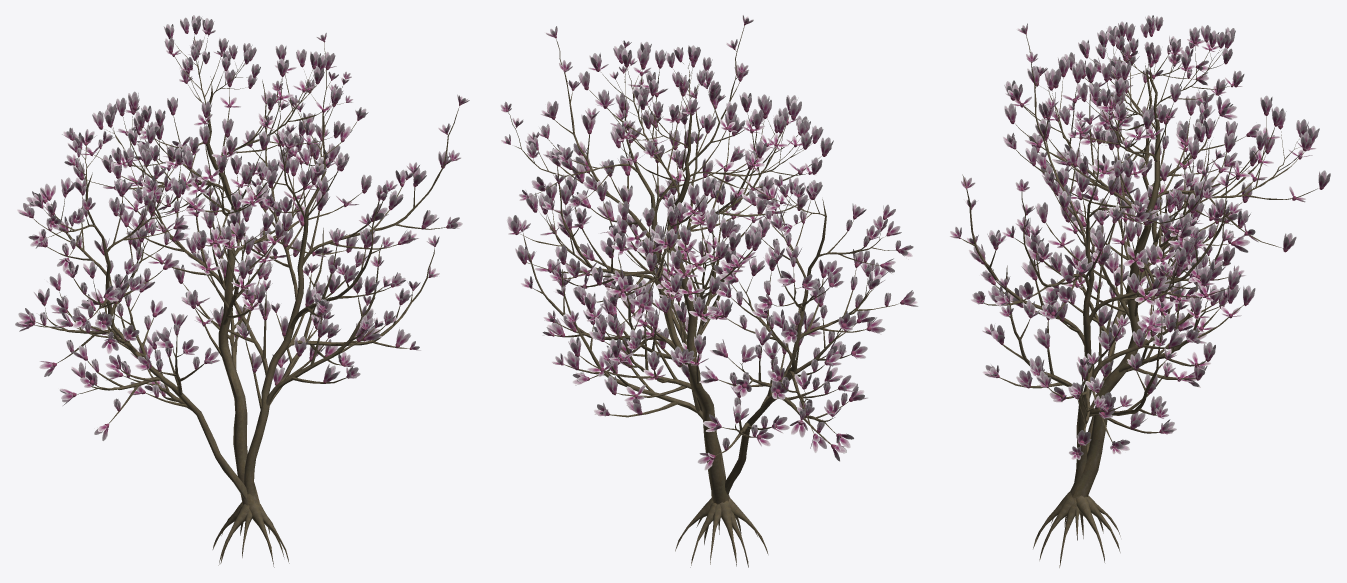
The model's file is garden.glb.
3 renders of one model, left to right at view 1: azimuth 30°, elevation 25°; view 2: azimuth 150°, elevation 25°; view 3: azimuth 270°, elevation 25°, orthographic. The views are drawn at different scales.
Visible parts, largest first — view 1: Petal04_1_Petal04_su_SHD_0, Bark01_1_Bark01_SHD_0, Petal02_1_Petal02_su_SHD_0; view 2: Petal04_1_Petal04_su_SHD_0, Bark01_1_Bark01_SHD_0, Petal02_1_Petal02_su_SHD_0; view 3: Petal04_1_Petal04_su_SHD_0, Bark01_1_Bark01_SHD_0, Petal02_1_Petal02_su_SHD_0.
Boxes of the visible parts, x1,y1,x2,y2 form: Petal04_1_Petal04_su_SHD_0: (15, 15, 469, 440); Bark01_1_Bark01_SHD_0: (33, 34, 459, 567); Petal02_1_Petal02_su_SHD_0: (28, 30, 461, 428); Petal04_1_Petal04_su_SHD_0: (500, 15, 918, 470); Bark01_1_Bark01_SHD_0: (506, 25, 899, 567); Petal02_1_Petal02_su_SHD_0: (505, 23, 904, 459); Petal04_1_Petal04_su_SHD_0: (949, 15, 1330, 459); Bark01_1_Bark01_SHD_0: (960, 28, 1317, 567); Petal02_1_Petal02_su_SHD_0: (958, 27, 1323, 455).
Size of the model in its own units: 280 by 340 by 221.
Materials: 3 (3 with a texture image).
